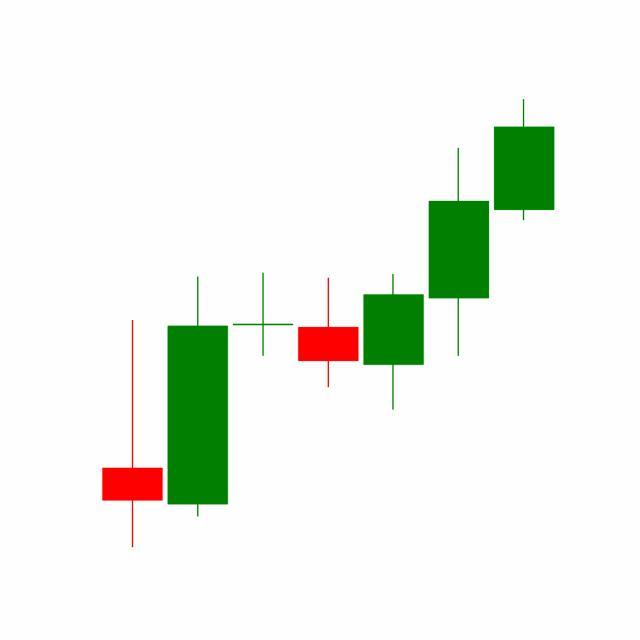Three Outside Up-Down: (295, 145, 492, 413)
